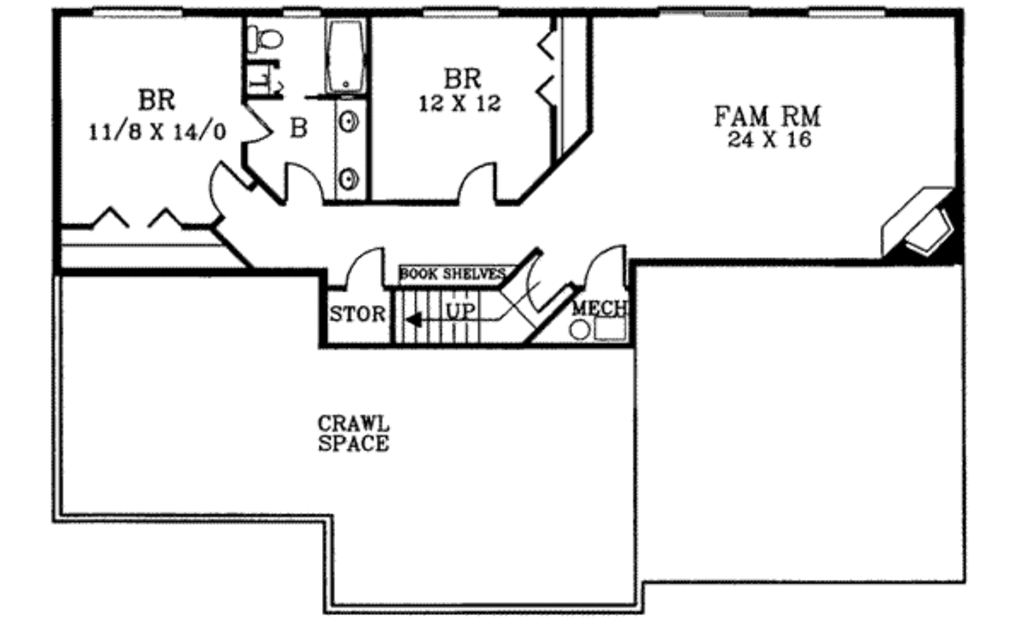door: (328, 241, 391, 292), (524, 248, 574, 311), (203, 157, 253, 214), (579, 239, 627, 293), (278, 159, 324, 210), (456, 153, 499, 207), (237, 102, 280, 145)
large_sink: (246, 23, 287, 52)
small_sink: (336, 99, 366, 212)
stairs: (387, 282, 536, 345)
tub: (325, 12, 364, 93)
window: (420, 5, 504, 22), (807, 6, 893, 22), (92, 8, 189, 18)
